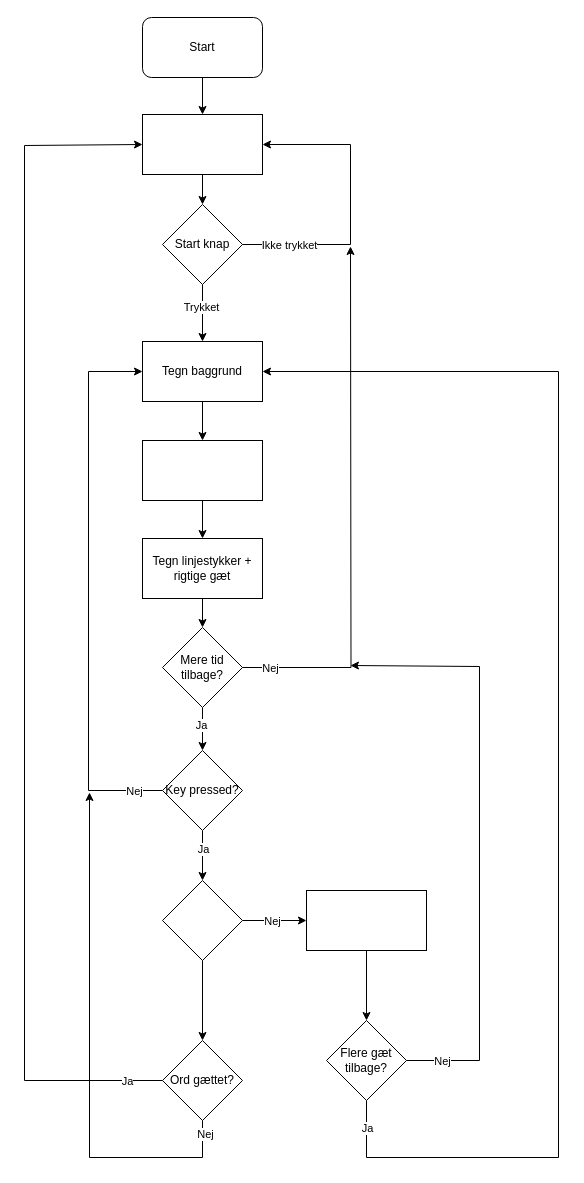
Some shapes in this 584 by 1183 pixel diagram are drawn without their labels. Each missing label, with the centre of its shape:
"Rigtigt gæt?" goes at point 202,920.
"Tegn ekstra kropsdel" goes at point 366,920.
"Tegn galgen + menneskedelene" goes at point 202,470.
"Tegn menuen" goes at point 202,144.
